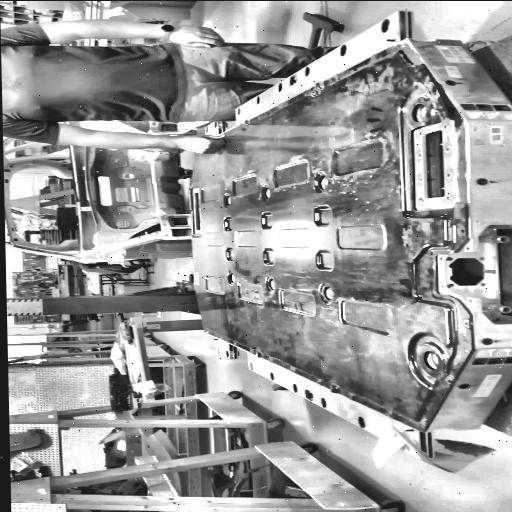b_casing: (181, 11, 474, 467)
